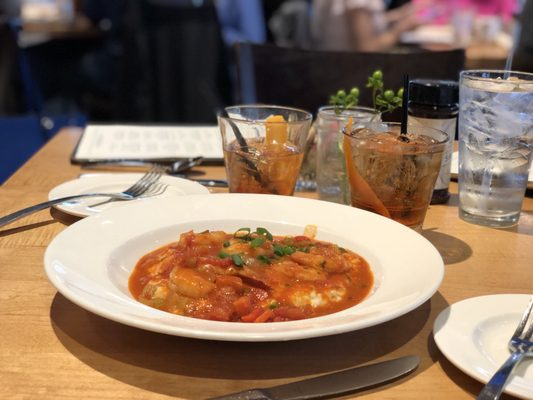burger: (54, 170, 164, 211)
